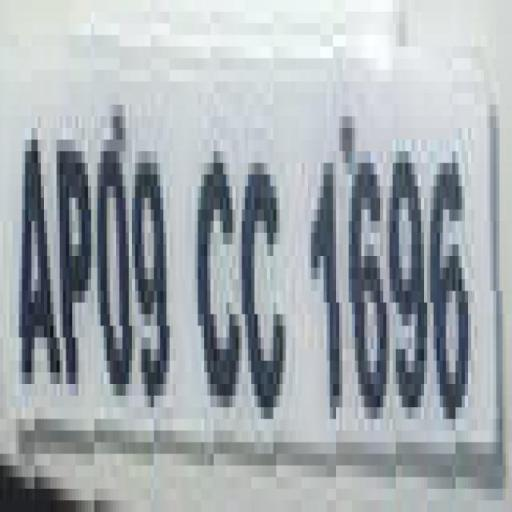number plate: (12, 0, 512, 489)
